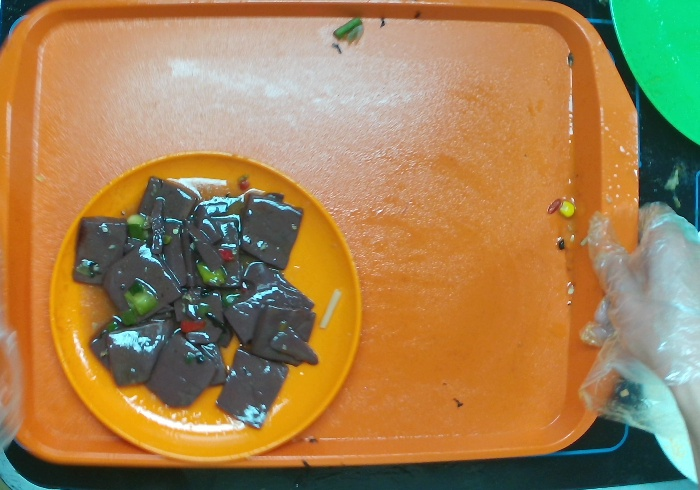HZYJPL-Ju_Huang_Yuan_Pan: (42, 150, 366, 466)
